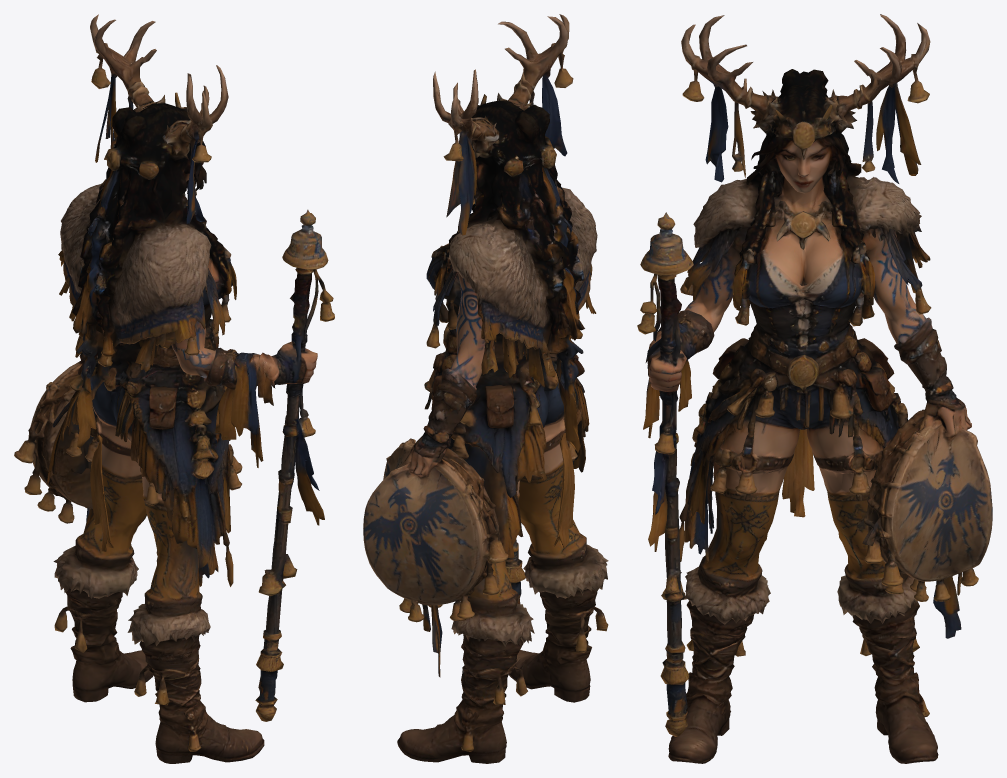
The model's file is drum_T1-tripo.glb.
3 renders of one model, left to right at view 1: azimuth 30°, elevation 25°; view 2: azimuth 150°, elevation 25°; view 3: azimuth 270°, elevation 25°, orthographic. The views are drawn at different scales.
Parts seen in each view (by area): view 1: tripo_node_232c00a1-164c-40e8-8def-fdc090029eed; view 2: tripo_node_232c00a1-164c-40e8-8def-fdc090029eed; view 3: tripo_node_232c00a1-164c-40e8-8def-fdc090029eed.
Boxes of the visible parts, left/top/right/bottom form: tripo_node_232c00a1-164c-40e8-8def-fdc090029eed: left=14, top=14, right=334, bottom=763; tripo_node_232c00a1-164c-40e8-8def-fdc090029eed: left=363, top=14, right=608, bottom=763; tripo_node_232c00a1-164c-40e8-8def-fdc090029eed: left=637, top=14, right=992, bottom=763.
Bounding box in the file's own units: 0.2824 × 1 × 0.4427.
Materials: 1 (1 with a texture image).
